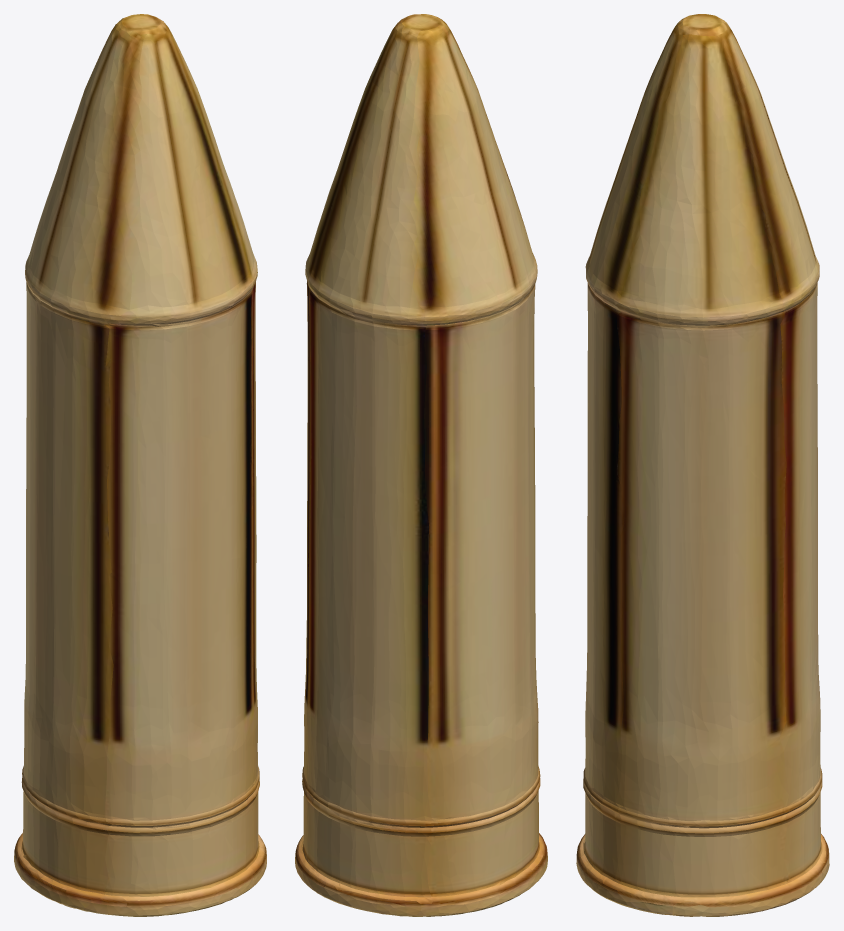
The model's file is slug.glb.
3 views of the same model, side by side, from view 1: azimuth 30°, elevation 25°; view 2: azimuth 150°, elevation 25°; view 3: azimuth 270°, elevation 25° (orthographic).
Visible parts, largest first — view 1: tmpx5we32ch.ply; view 2: tmpx5we32ch.ply; view 3: tmpx5we32ch.ply.
Boxes of the visible parts, x1,y1,x2,y2 form: tmpx5we32ch.ply: (14,14,266,916); tmpx5we32ch.ply: (295,14,547,916); tmpx5we32ch.ply: (576,14,829,916).
Bounding box in the file's own units: 0.1351 × 0.5 × 0.1359.
1 material, 1 textured.
